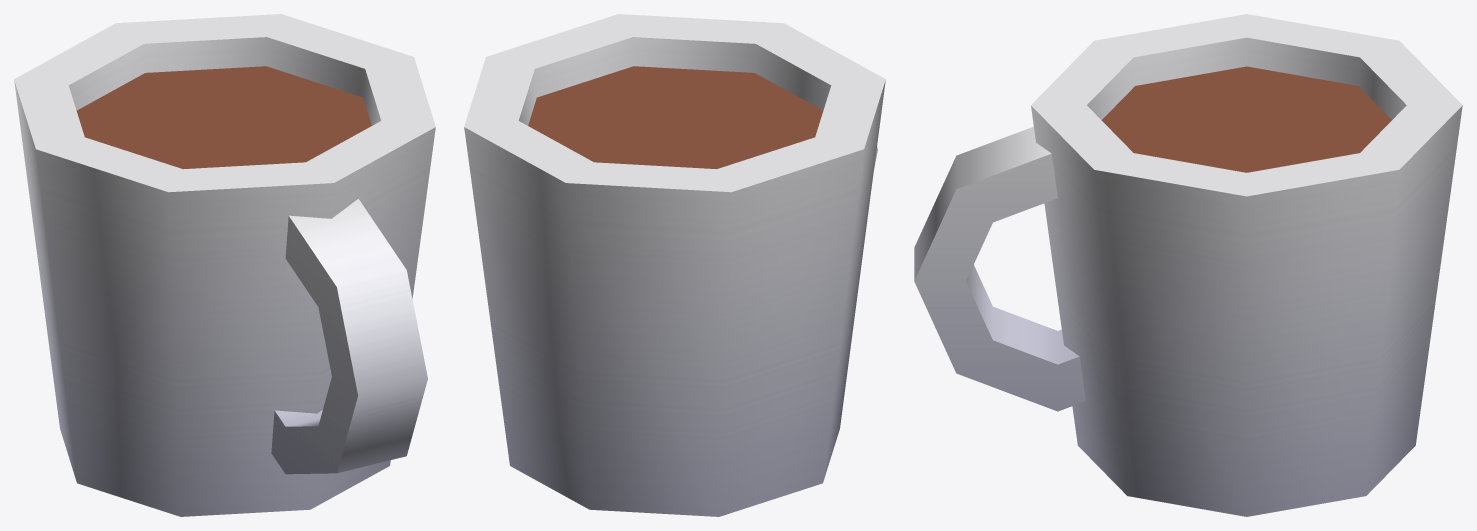
The model's file is cup-coffee.fbx.
3 renders of one model, left to right at view 1: azimuth 30°, elevation 25°; view 2: azimuth 150°, elevation 25°; view 3: azimuth 270°, elevation 25°, orthographic.
Parts seen in each view (by area): view 1: cup-coffee; view 2: cup-coffee; view 3: cup-coffee.
Part boxes in pixels (box(x1,y1,x2,y2)): cup-coffee: box(14, 14, 435, 516); cup-coffee: box(464, 14, 885, 516); cup-coffee: box(914, 14, 1462, 516).
Bounding box in the file's own units: 0.23 × 0.2921 × 0.2.
